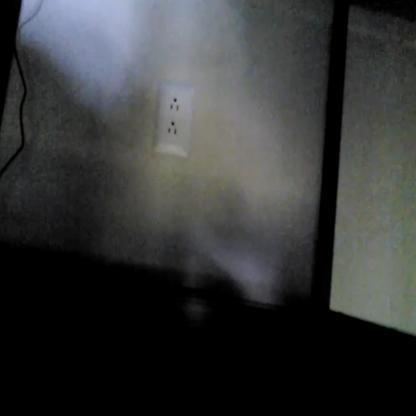OUTLET: (154, 81, 194, 158)
